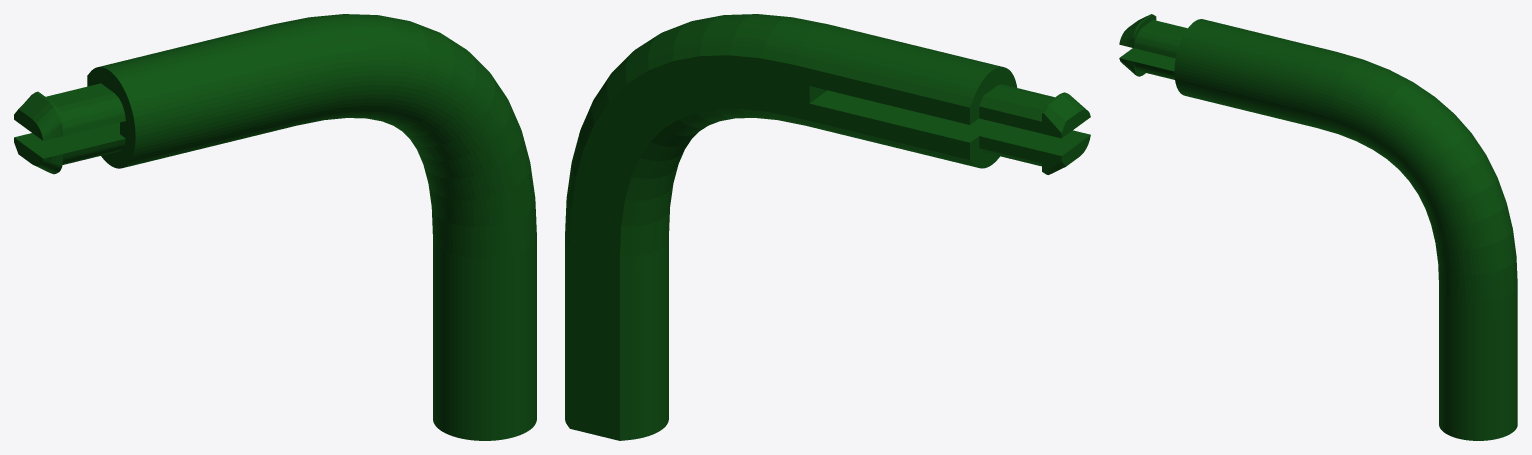
File: stem_1A_90L.glb
3 views of the same model, side by side, from view 1: azimuth 30°, elevation 25°; view 2: azimuth 150°, elevation 25°; view 3: azimuth 330°, elevation 25° (orthographic). The views are drawn at different scales.
Parts seen in each view (by area): view 1: stem_1A_90L; view 2: stem_1A_90L; view 3: stem_1A_90L.
Part boxes in pixels (x1,y1,x2,y2): stem_1A_90L: (14, 14, 536, 440); stem_1A_90L: (565, 14, 1090, 440); stem_1A_90L: (1119, 14, 1517, 440).
Bounding box in the file's own units: 0.0402 × 0.0336 × 0.00666.
